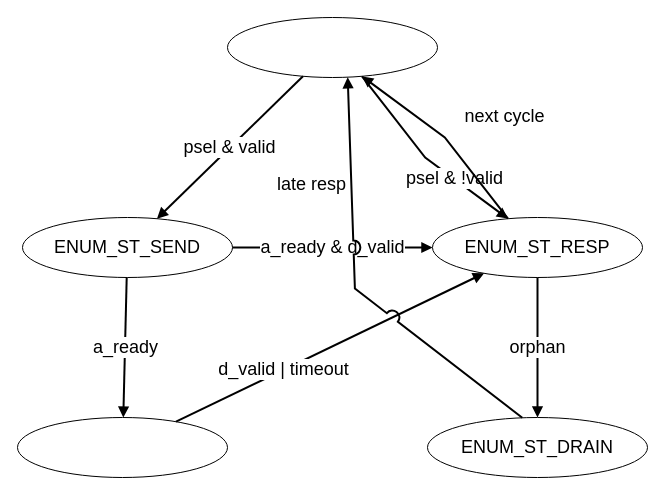
The diagram is 665 pixels wide and 495 high, and some of its shapes have lost their labels. The shapes that lost their labels are listed below. From the top down, each one's centre as x and y in pixels, then its label:
At (332,47): "ENUM_ST_IDLE".
At (122,447): "ENUM_ST_WAIT".
